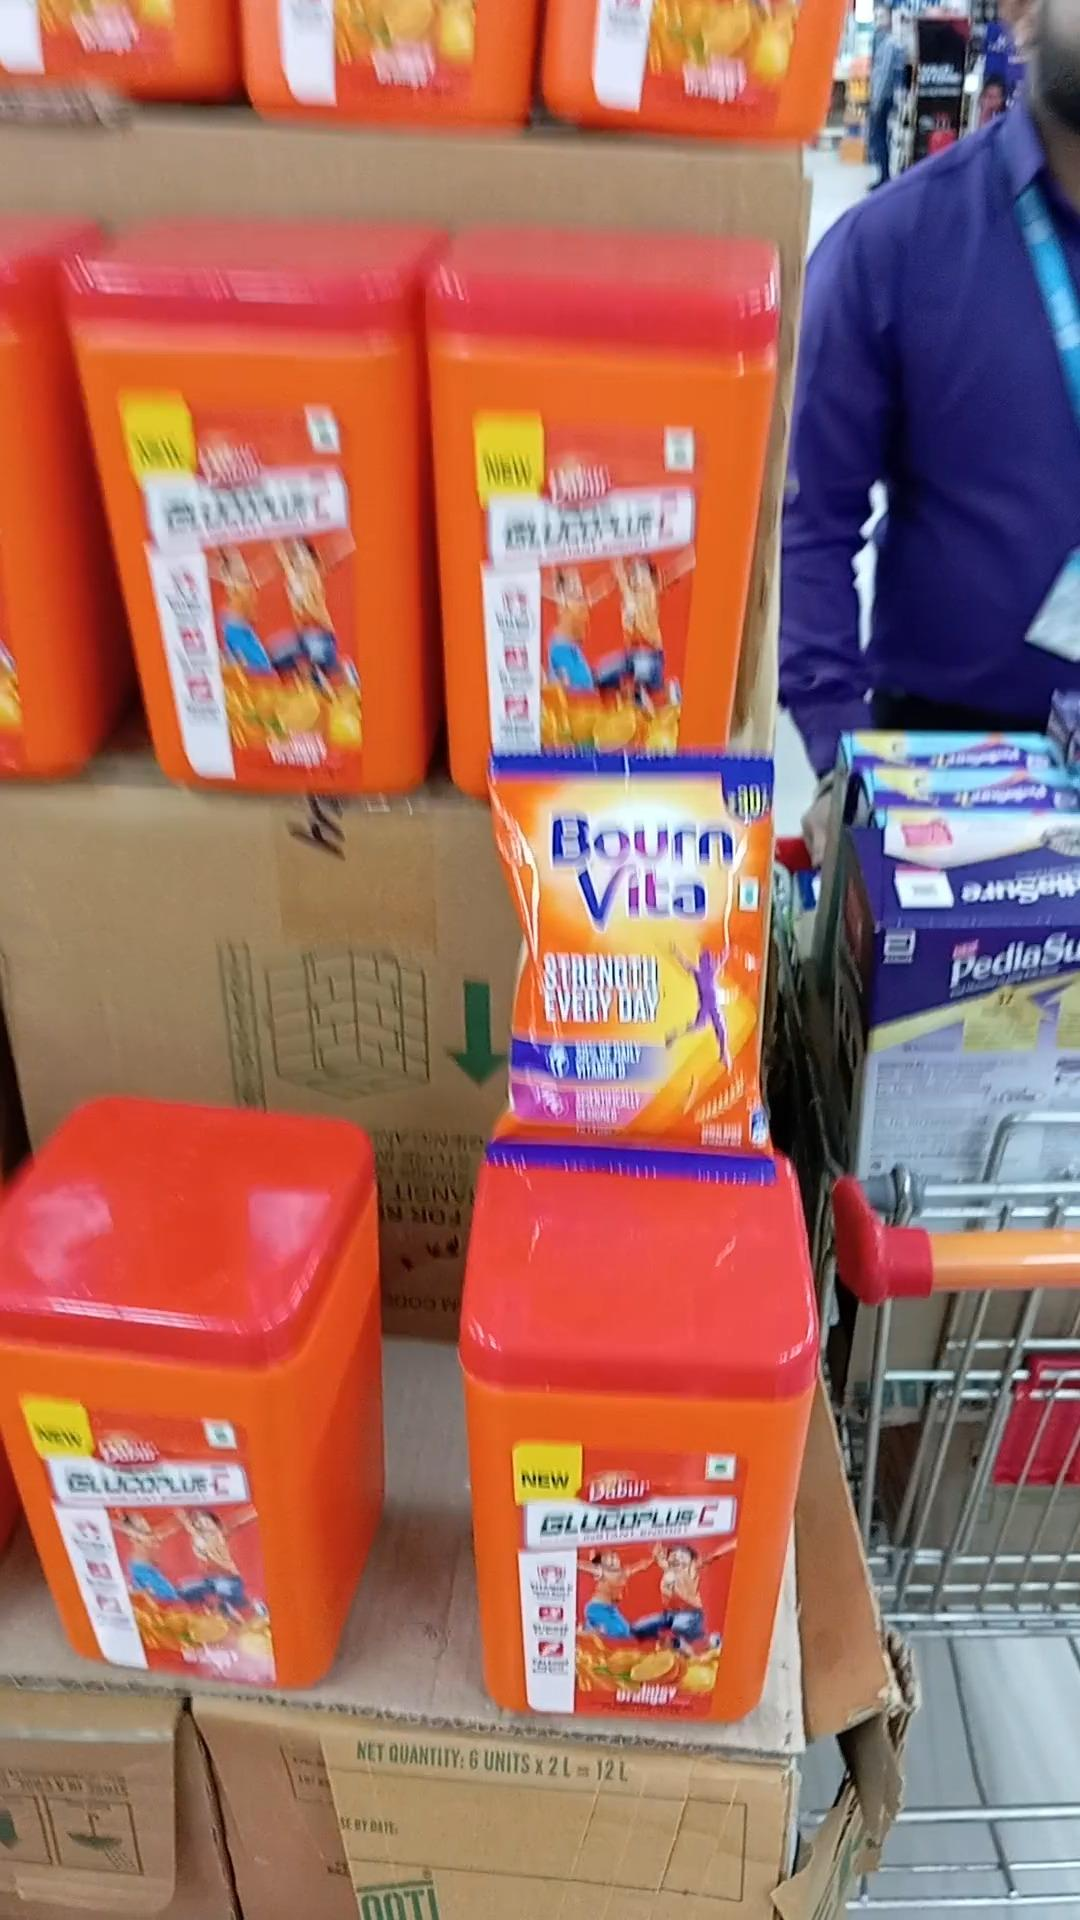BOURN_VITA_75_G_POUCH: (504, 746, 770, 1180)
